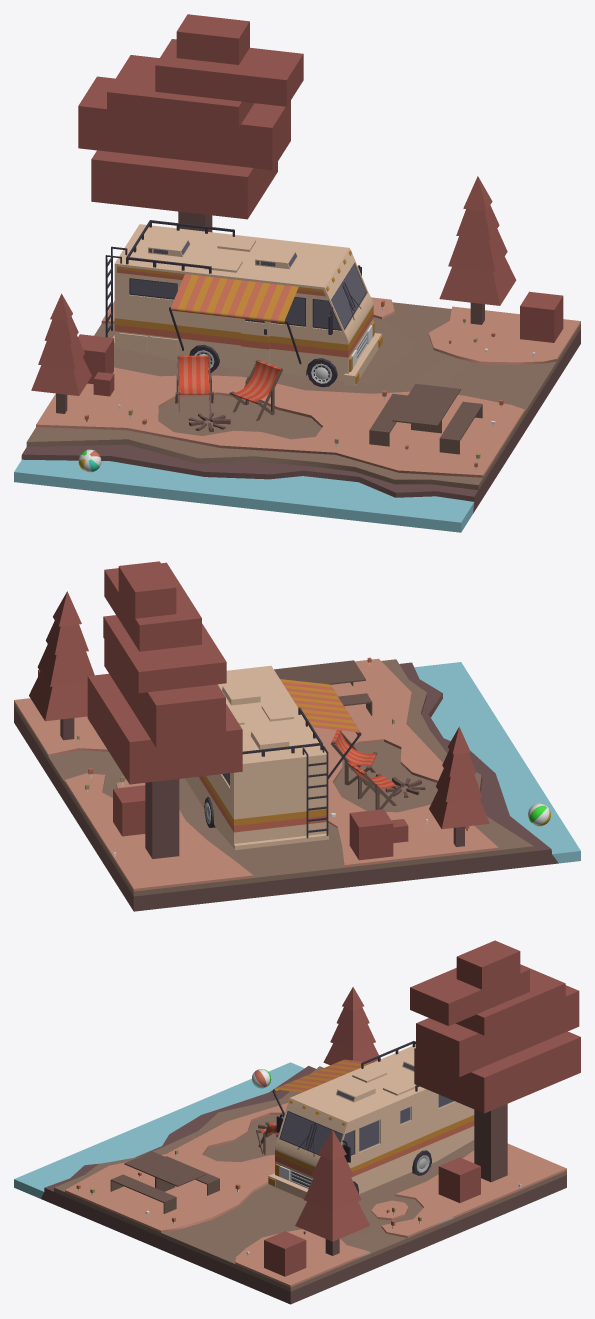
Rendered from camp_site_01.glb.
The picture shows the model from 3 angles, top to bottom: view 1: azimuth 30°, elevation 25°; view 2: azimuth 150°, elevation 25°; view 3: azimuth 270°, elevation 25°; orthographic projection. The views are drawn at different scales.
Visible parts, largest first — view 1: base.001, camper.001, tree square.001, tree pyramid.001, picknick table.001, bushes.005, chairs.001; view 2: base.001, tree square.001, camper.001, tree pyramid.001, bushes.005, picknick table.001, chairs.001; view 3: base.001, tree square.001, camper.001, tree pyramid.001, bushes.005, picknick table.001.
Boxes of the visible parts, box(x1,y1,x2,y2) form: base.001: box(14, 297, 580, 532); camper.001: box(105, 220, 382, 387); tree square.001: box(78, 14, 303, 232); tree pyramid.001: box(31, 176, 516, 413); picknick table.001: box(369, 383, 482, 454); bushes.005: box(78, 291, 563, 396); chairs.001: box(175, 355, 282, 420); base.001: box(14, 658, 580, 911); tree square.001: box(87, 561, 242, 858); camper.001: box(185, 665, 361, 849); tree pyramid.001: box(29, 591, 489, 846); bushes.005: box(38, 669, 408, 860); picknick table.001: box(274, 660, 372, 715); chairs.001: box(331, 730, 399, 809); base.001: box(14, 1062, 566, 1304); tree square.001: box(410, 940, 580, 1182); camper.001: box(268, 1041, 474, 1198); tree pyramid.001: box(295, 987, 378, 1255); bushes.005: box(264, 1157, 480, 1276); picknick table.001: box(110, 1151, 219, 1213).
Bounding box in the file's own units: 1.41 × 0.6977 × 1.45.
